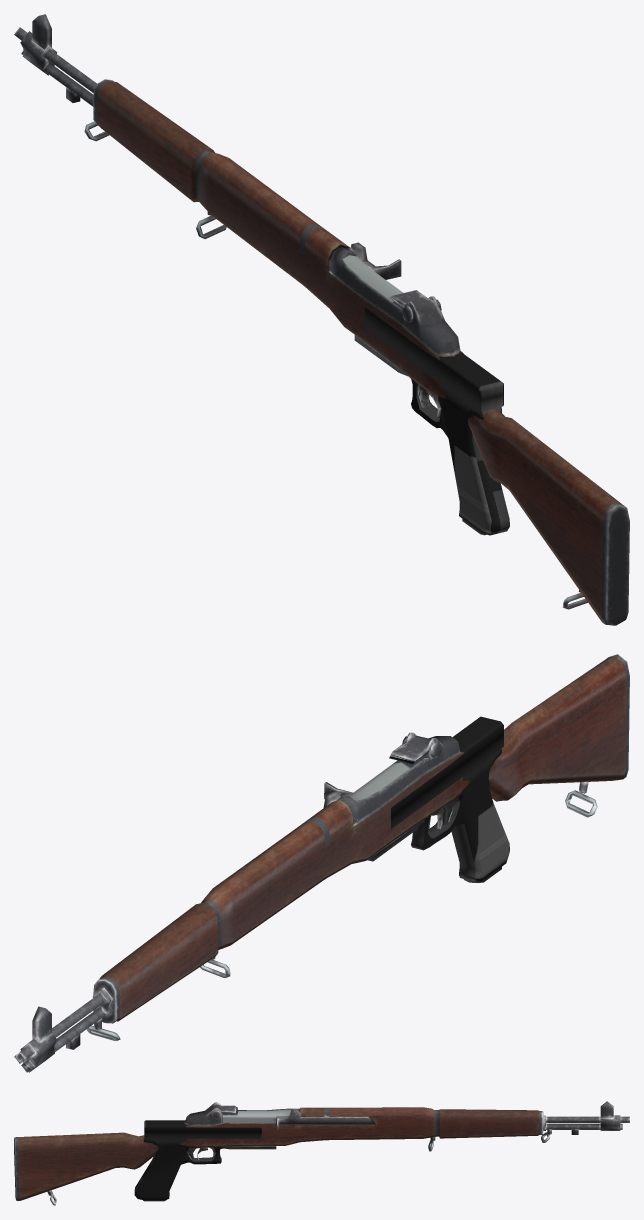
File: Glock17.fbx
The picture shows the model from 3 angles, top to bottom: view 1: azimuth 30°, elevation 25°; view 2: azimuth 150°, elevation 25°; view 3: azimuth 270°, elevation 25°; orthographic projection. The views are drawn at different scales.
Visible parts, largest first — view 1: M1_LP, Glock17_LP; view 2: M1_LP, Glock17_LP; view 3: M1_LP, Glock17_LP.
Part boxes in pixels (box(x1,y1,x2,y2)): M1_LP: box(14, 14, 629, 625); Glock17_LP: box(364, 307, 509, 535); M1_LP: box(14, 654, 629, 1072); Glock17_LP: box(391, 716, 509, 882); M1_LP: box(14, 1101, 629, 1205); Glock17_LP: box(134, 1120, 261, 1201).
Size of the model in its own units: 0.0331 by 0.6289 by 0.1156.
